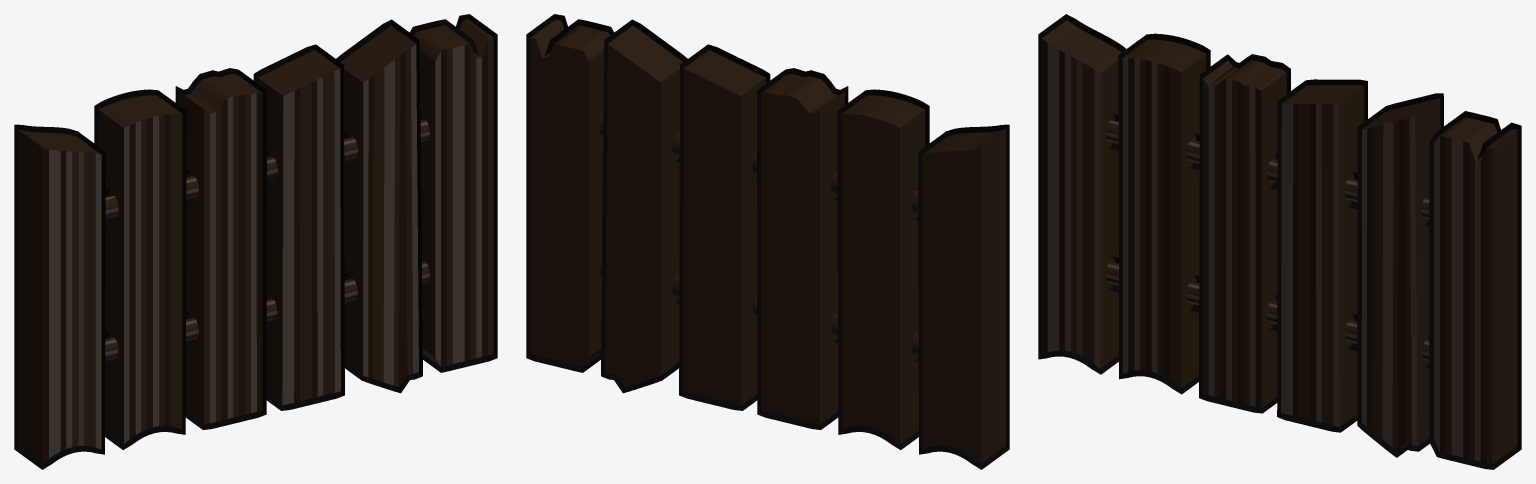
The model's file is Fence final.FBX.
The picture shows the model from 3 angles, left to right: view 1: azimuth 30°, elevation 25°; view 2: azimuth 150°, elevation 25°; view 3: azimuth 330°, elevation 25°; orthographic projection.
Parts seen in each view (by area): view 1: Box005; view 2: Box005; view 3: Box005.
Part boxes in pixels (box(x1,y1,x2,y2)): Box005: box(14, 14, 497, 469); Box005: box(526, 14, 1009, 469); Box005: box(1038, 14, 1521, 469).
Size of the model in its own units: 12.41 by 9.08 by 1.38.
